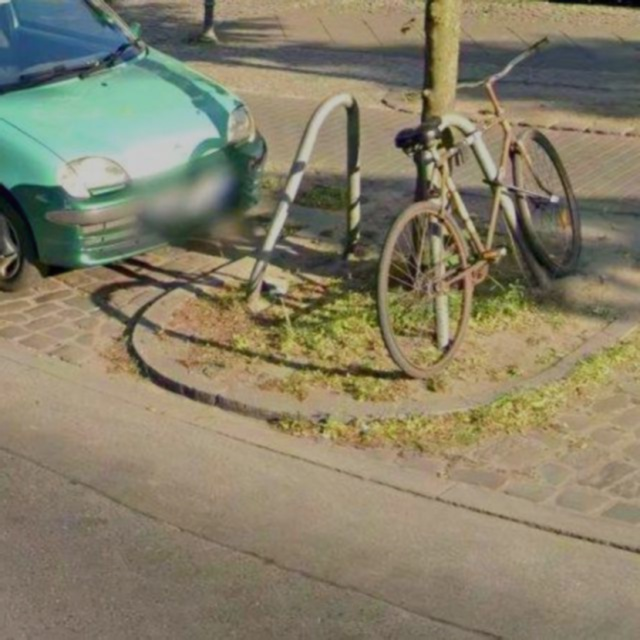bicycle: (346, 21, 598, 382)
car: (0, 3, 291, 304)
